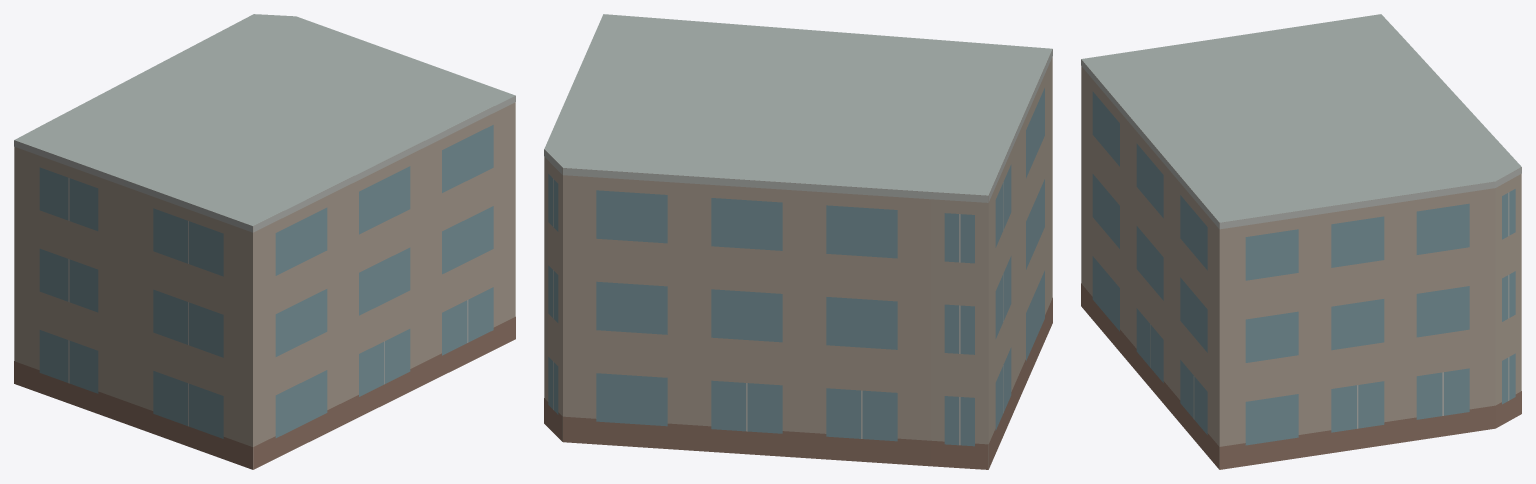
File: survey-upis-33046919.glb
3 views of the same model, side by side, from view 1: azimuth 30°, elevation 25°; view 2: azimuth 150°, elevation 25°; view 3: azimuth 270°, elevation 25° (orthographic). The views are drawn at different scales.
Parts seen in each view (by area): view 1: survey-upis-33046919.tmp; view 2: survey-upis-33046919.tmp; view 3: survey-upis-33046919.tmp.
Part boxes in pixels (x1,y1,x2,y2): survey-upis-33046919.tmp: (14,14,515,469); survey-upis-33046919.tmp: (544,14,1052,469); survey-upis-33046919.tmp: (1081,14,1521,469).
Bounding box in the file's own units: 16.59 × 9.15 × 14.8.
